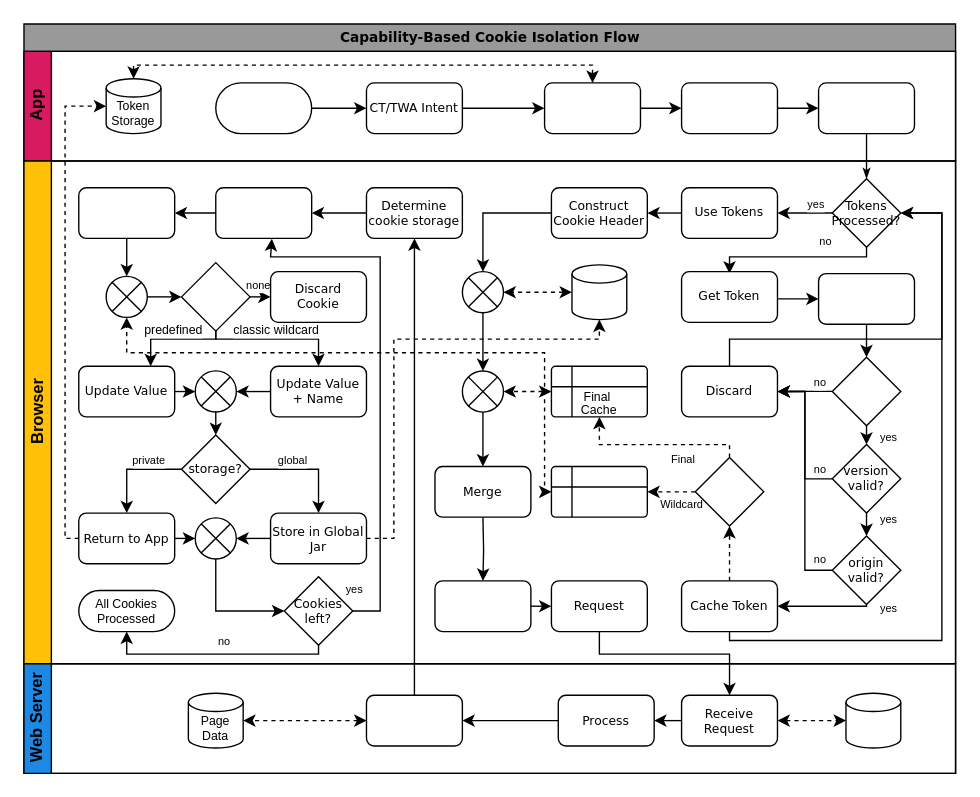
The diagram is 980 pixels wide and 797 high, and some of its shapes have lost their labels. The shapes that lost their labels are listed below. From the top down, each one's box as (x1, y1, x2, y2) in pixels, then its label:
(214, 82, 312, 134): Open CT/TWA
(543, 82, 640, 134): Lookup Storage
(680, 82, 777, 134): Inject Tokens
(817, 82, 914, 134): Launch
(77, 186, 175, 238): Get Least Privilege Token for Domain
(214, 186, 312, 238): Get Cookie
(180, 261, 250, 331): Type?
(571, 263, 627, 320): Global Jar
(817, 272, 914, 324): Decrypt
(831, 356, 901, 426): signature valid?
(550, 465, 647, 517): Wildcard Cache
(694, 456, 764, 526): Token Type?
(434, 580, 531, 632): Cookie Header
(365, 694, 462, 746): Response
(845, 692, 901, 748): Cookie
